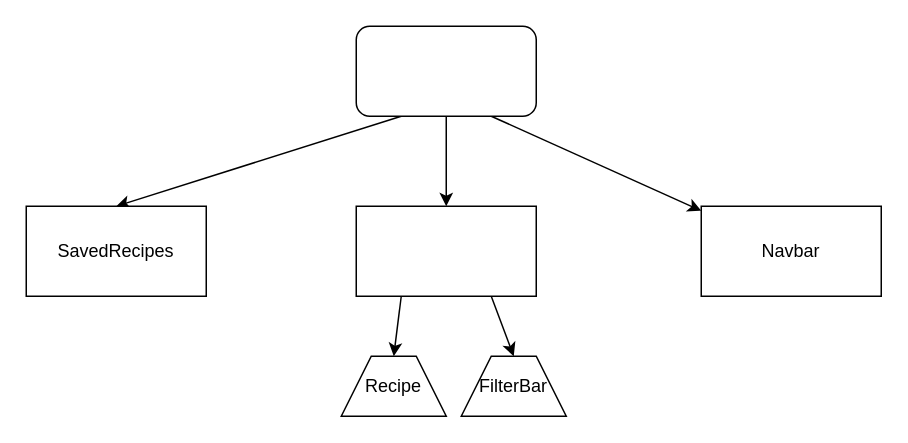
Image size: 908x443. Some labels were removed from this diagram. Here are the shapes that lost their labels. From the top down, the centre of each, then its label:
the point at 445,70: App
the point at 445,250: RecipesContainer
